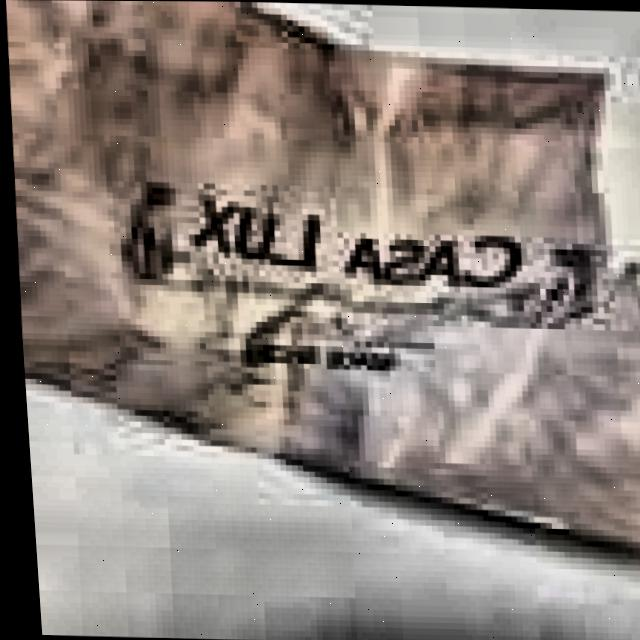paper: (6, 0, 640, 556)
